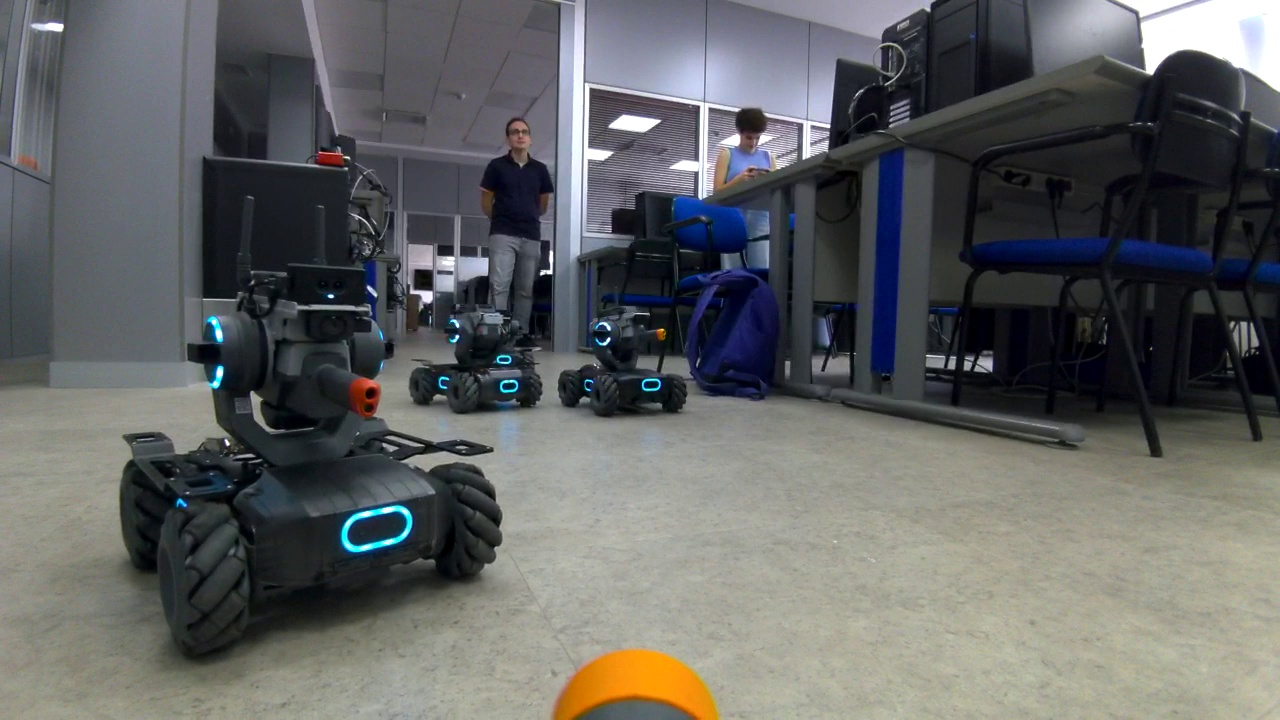robot: (113, 192, 509, 663), (409, 283, 556, 417), (563, 291, 696, 419)
